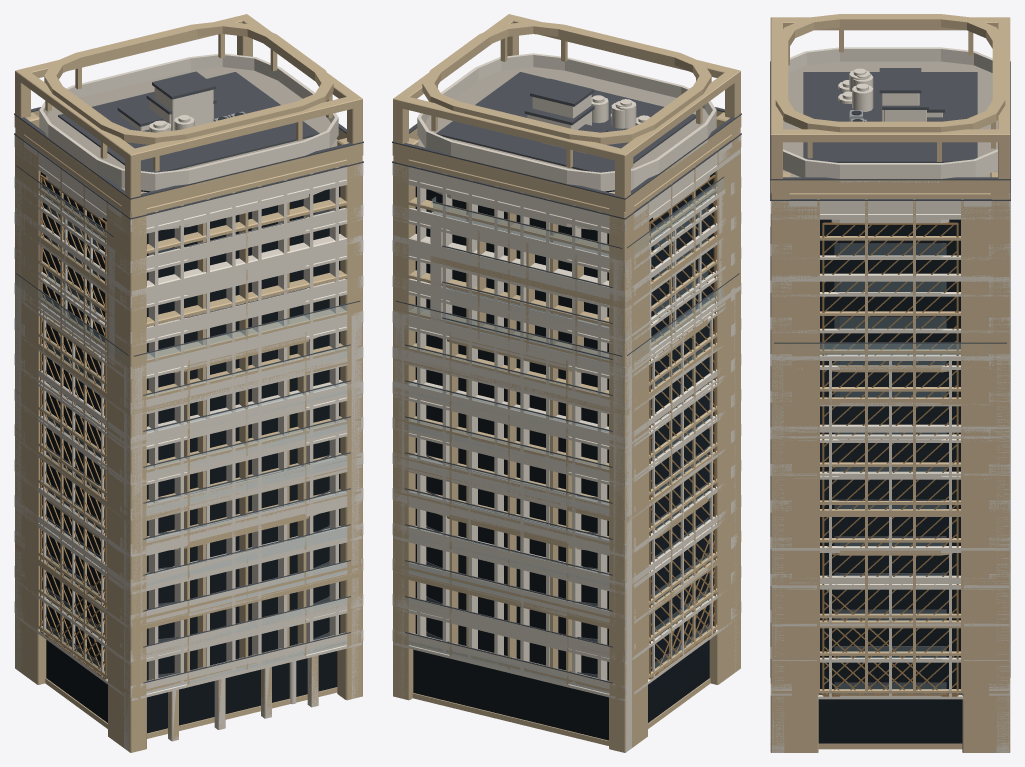
File: tower-residential.glb
3 renders of one model, left to right at view 1: azimuth 30°, elevation 25°; view 2: azimuth 150°, elevation 25°; view 3: azimuth 270°, elevation 25°, orthographic. The views are drawn at different scales.
Visible parts, largest first — view 1: tower-residential_v1, tower-residential_v2, tower-residential_v0, tower-residential_v3; view 2: tower-residential_v1, tower-residential_v2, tower-residential_v0, tower-residential_v3; view 3: tower-residential_v2, tower-residential_v1, tower-residential_v0, tower-residential_v3.
Boxes of the visible parts, x1,y1,x2,y2 form: tower-residential_v1: (14,14,363,751); tower-residential_v2: (14,72,363,752); tower-residential_v0: (15,100,362,752); tower-residential_v3: (39,21,338,704); tower-residential_v1: (392,14,741,750); tower-residential_v2: (392,72,741,752); tower-residential_v0: (393,124,740,752); tower-residential_v3: (417,21,716,684); tower-residential_v2: (770,68,1010,752); tower-residential_v1: (770,17,1010,752); tower-residential_v0: (770,85,1010,752); tower-residential_v3: (775,14,1005,699).
Bounding box in the file's own units: 22.08 × 54.5 × 19.08.
